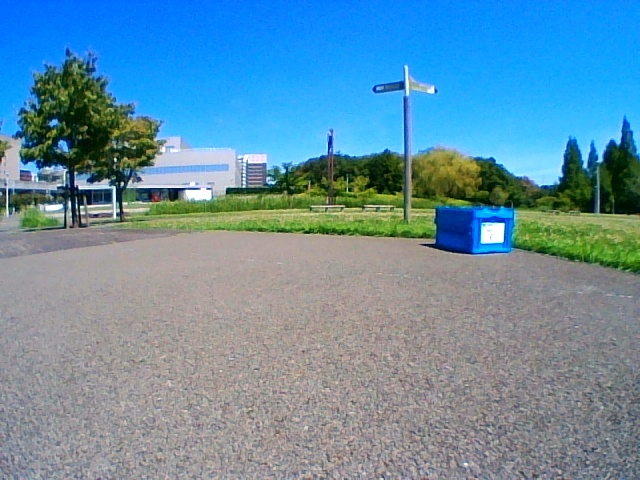blue_box: (436, 206, 513, 249)
tag: (481, 222, 504, 243)
